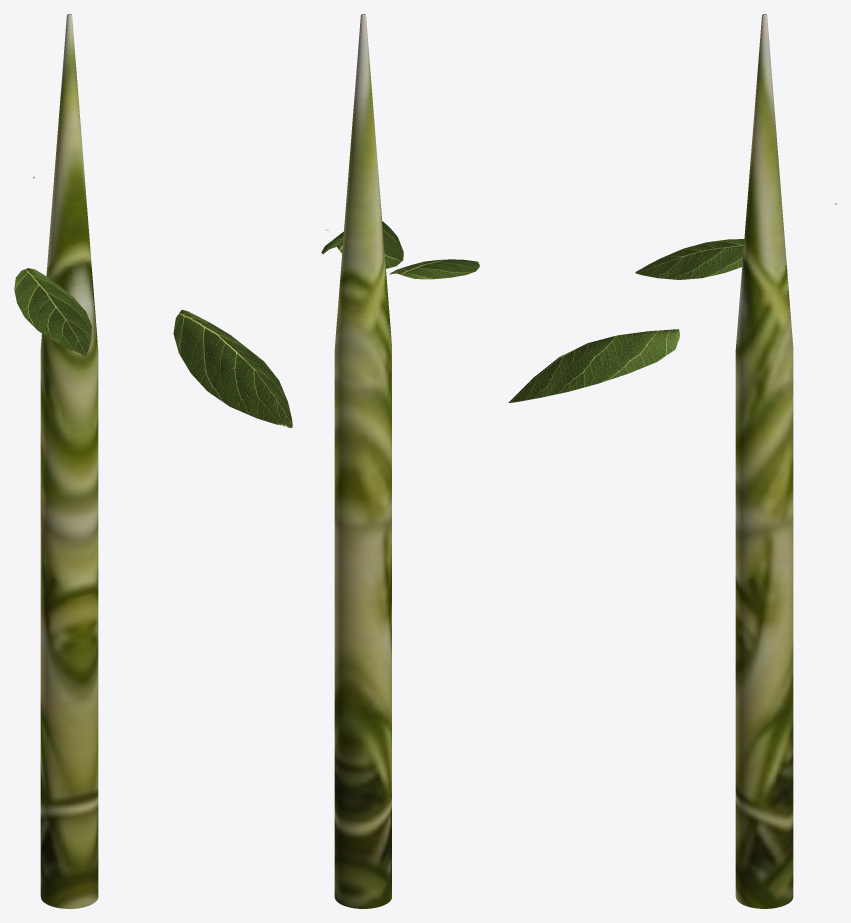
Rendered from Planta Fase 1.glb.
3 views of the same model, side by side, from view 1: azimuth 30°, elevation 25°; view 2: azimuth 150°, elevation 25°; view 3: azimuth 270°, elevation 25° (orthographic).
Parts seen in each view (by area): view 1: Cylinder, Plane.005, Plane.004; view 2: Cylinder, Plane.004, Plane.005; view 3: Cylinder, Plane.005, Plane.004.
Part boxes in pixels (box(x1,y1,x2,y2)): Cylinder: box(40, 14, 98, 908); Plane.005: box(173, 309, 292, 427); Plane.004: box(14, 268, 91, 356); Cylinder: box(334, 14, 391, 908); Plane.004: box(389, 259, 479, 279); Plane.005: box(321, 221, 403, 268); Cylinder: box(735, 14, 793, 908); Plane.005: box(508, 329, 680, 402); Plane.004: box(635, 239, 744, 279).
Size of the model in its own units: 0.3864 by 1.75 by 0.591.
Materials: 2 (2 with a texture image).
